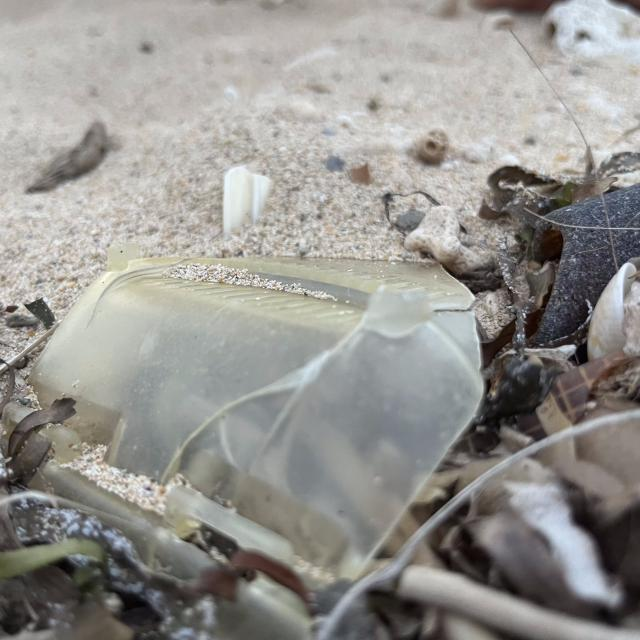shell: (583, 264, 640, 374), (219, 162, 283, 249)
trash: (31, 251, 483, 585), (505, 170, 640, 361)
